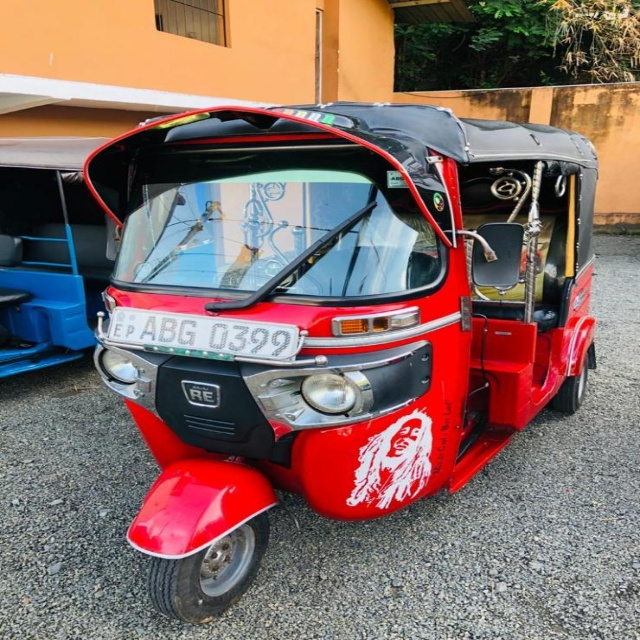Motorcycle: (84, 102, 598, 626)
